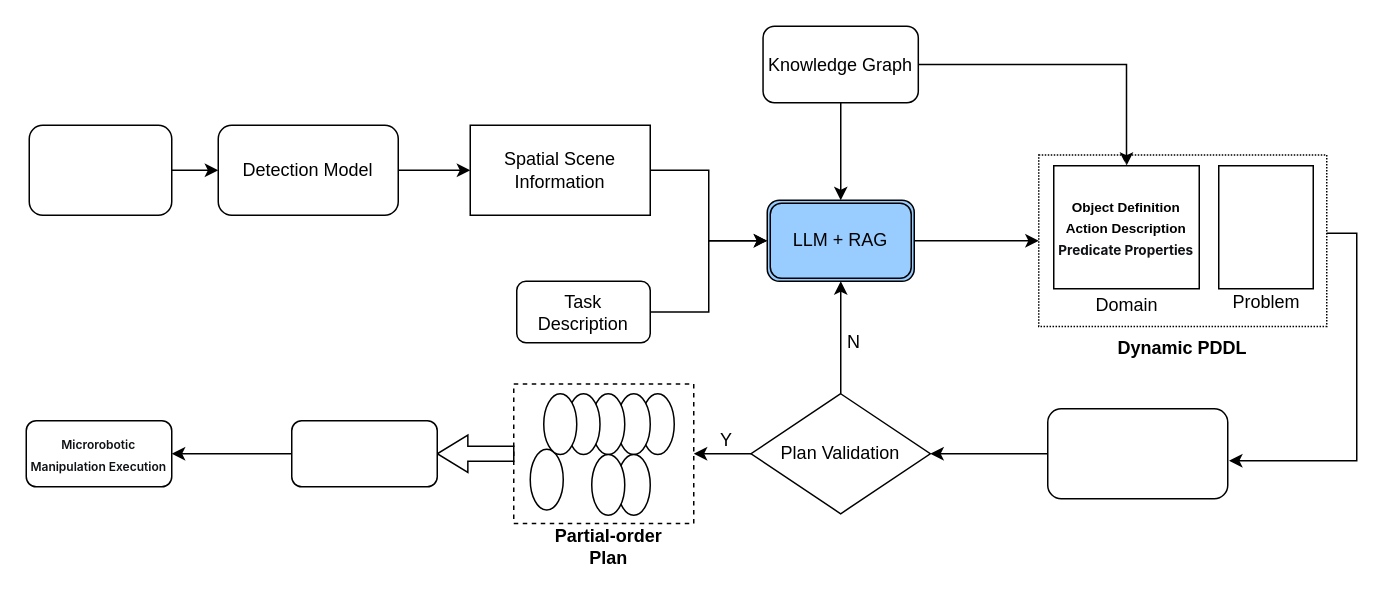
The diagram is 1395 pixels wide and 594 high, and some of its shapes have lost their labels. Each missing label, with the centre of its shape:
Action Parser: [363,453]
Initial State Goal State: [1265,226]
Microrobotic Manipulation Scenario: [100,169]
Symbolic Planning: [1137,453]
